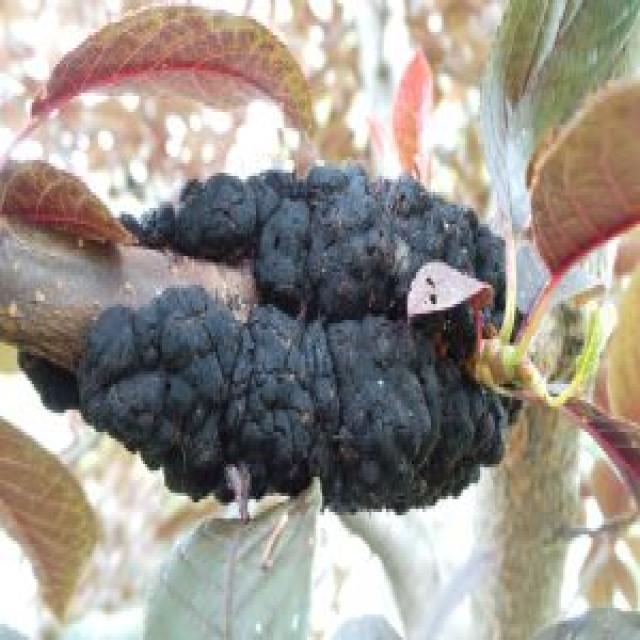Black_knot: (72, 160, 510, 515)
